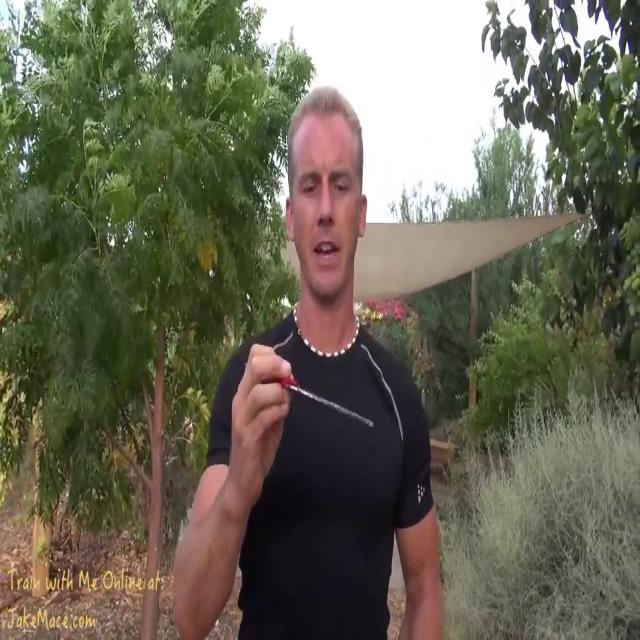knife: (282, 365, 378, 436)
